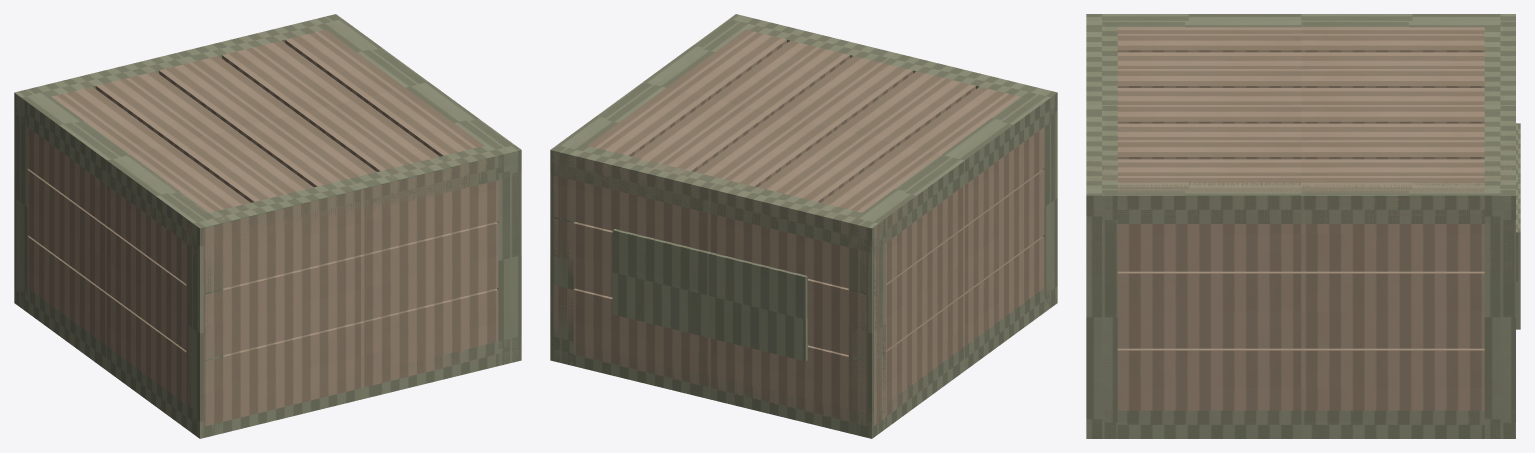
File: crate-06.glb
The picture shows the model from 3 angles, left to right: view 1: azimuth 30°, elevation 25°; view 2: azimuth 150°, elevation 25°; view 3: azimuth 270°, elevation 25°; orthographic projection. The views are drawn at different scales.
Visible parts, largest first — view 1: crate_06; view 2: crate_06; view 3: crate_06.
Boxes of the visible parts, <box> form: crate_06: <box>14,14,521,438</box>; crate_06: <box>550,14,1057,438</box>; crate_06: <box>1086,14,1520,438</box>.
Bounding box in the file's own units: 0.96 × 0.6 × 0.97.
2 materials, 2 textured.
